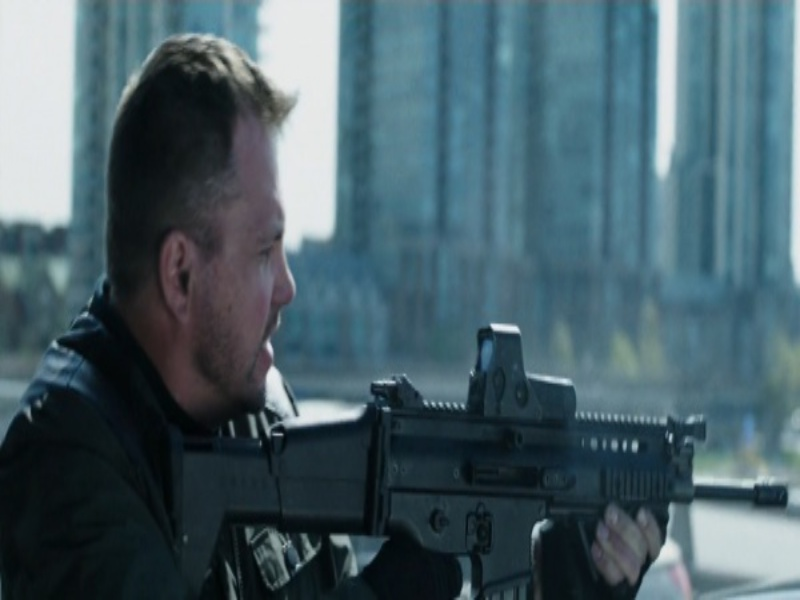person: (3, 44, 662, 594)
weapon: (177, 336, 794, 582)
